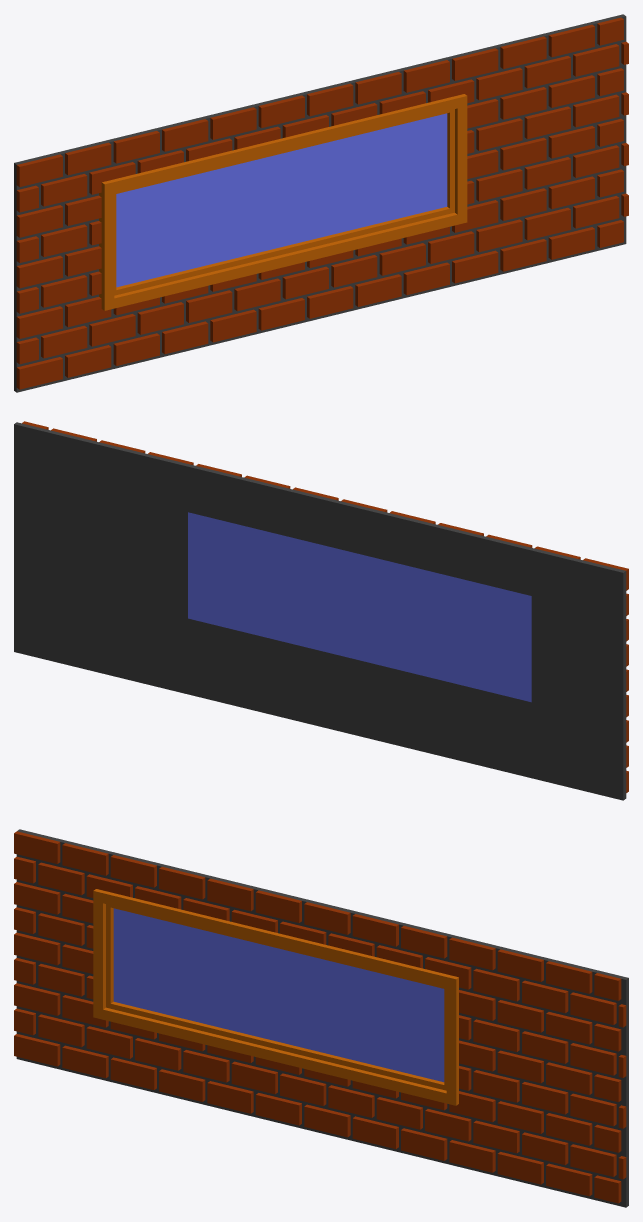
File: стена-11.obj
The picture shows the model from 3 angles, top to bottom: view 1: azimuth 30°, elevation 25°; view 2: azimuth 150°, elevation 25°; view 3: azimuth 330°, elevation 25°; orthographic projection.
Bounding box in the file's own units: 12.6 × 4.5 × 0.3.
Materials: 1 (1 with a texture image).
